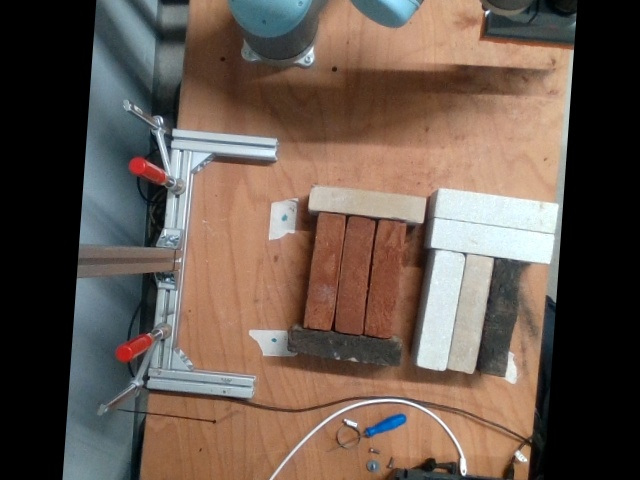brick-side: (417, 248, 466, 371), (431, 218, 554, 263), (448, 252, 493, 374), (435, 189, 558, 233), (477, 260, 522, 377), (304, 214, 348, 329), (287, 325, 405, 367), (335, 217, 377, 332), (364, 221, 405, 338), (310, 184, 428, 223)
